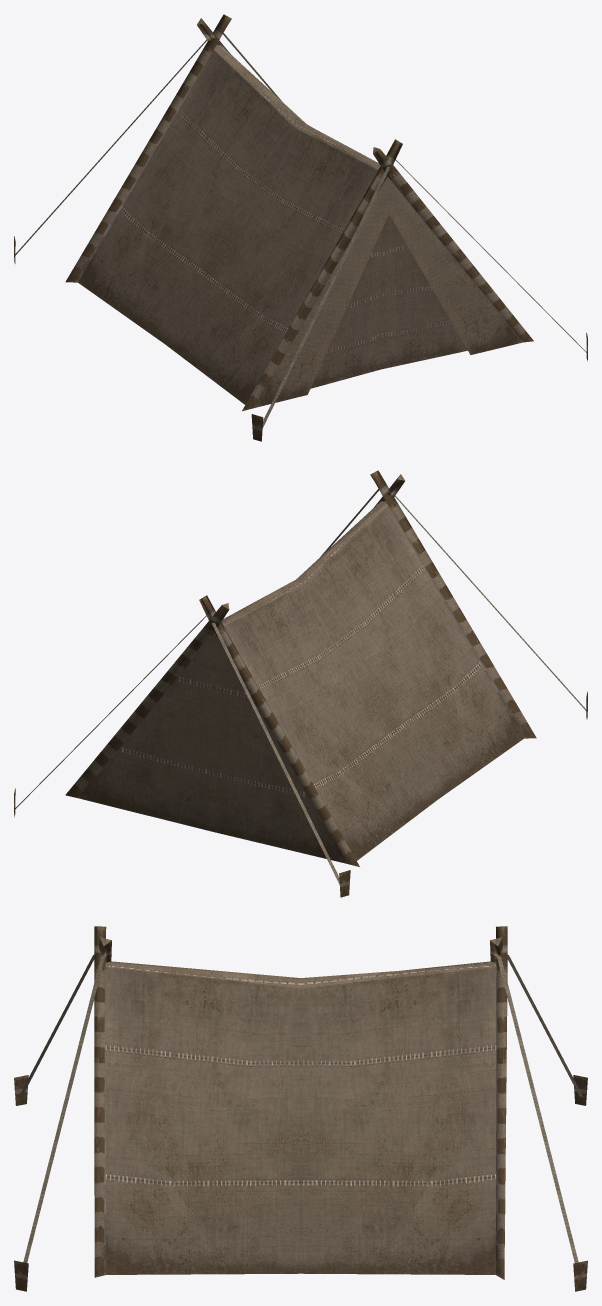
Rendered from b_hn_zhangpeng03_lod1.FBX.
3 views of the same model, one above another, from view 1: azimuth 30°, elevation 25°; view 2: azimuth 150°, elevation 25°; view 3: azimuth 270°, elevation 25° (orthographic). The views are drawn at different scales.
Visible parts, largest first — view 1: b_hn_zhangpeng03_lod1; view 2: b_hn_zhangpeng03_lod1; view 3: b_hn_zhangpeng03_lod1.
Part boxes in pixels (x1=…): b_hn_zhangpeng03_lod1: x1=14, y1=14, x2=587, y2=441; b_hn_zhangpeng03_lod1: x1=14, y1=470, x2=587, y2=897; b_hn_zhangpeng03_lod1: x1=14, y1=926, x2=587, y2=1291.
Size of the model in its own units: 7.53 by 4.96 by 9.68.
